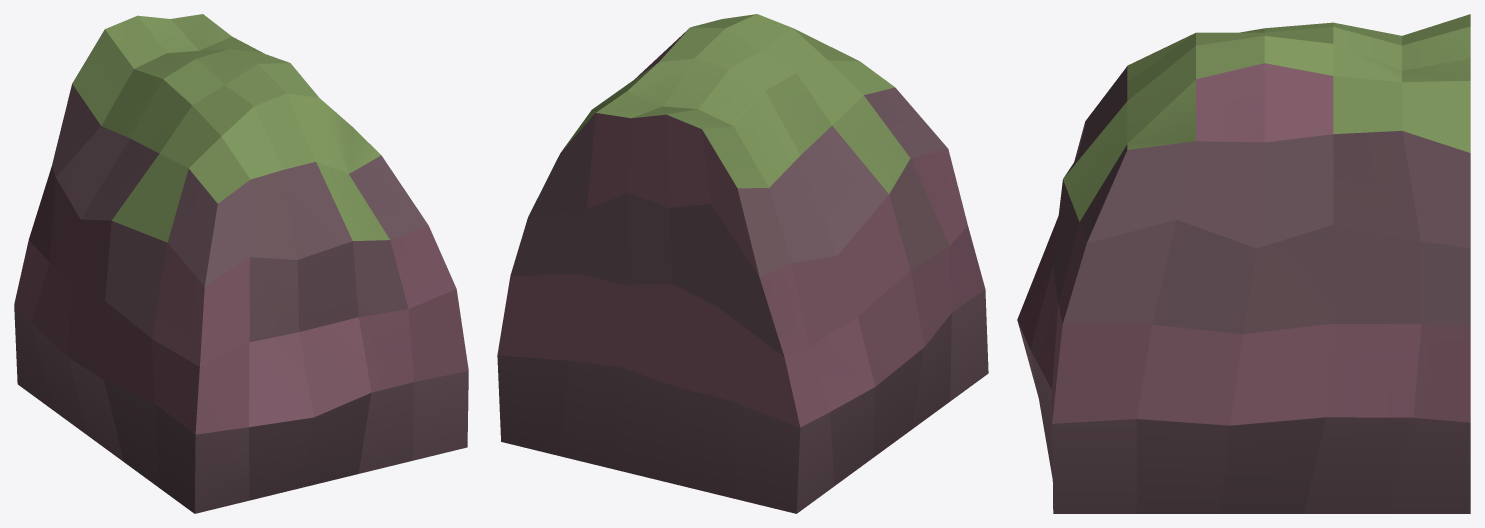
File: roca_punta_3.glb
The picture shows the model from 3 angles, left to right: view 1: azimuth 30°, elevation 25°; view 2: azimuth 150°, elevation 25°; view 3: azimuth 270°, elevation 25°; orthographic projection. The views are drawn at different scales.
Visible parts, largest first — view 1: propforge-cuartos-roca_punta; view 2: propforge-cuartos-roca_punta; view 3: propforge-cuartos-roca_punta.
Part boxes in pixels (x1=…): propforge-cuartos-roca_punta: x1=14, y1=14, x2=468, y2=513; propforge-cuartos-roca_punta: x1=497, y1=14, x2=988, y2=513; propforge-cuartos-roca_punta: x1=1017, y1=14, x2=1470, y2=513.
Size of the model in its own units: 0.8824 by 0.9729 by 0.9776.
